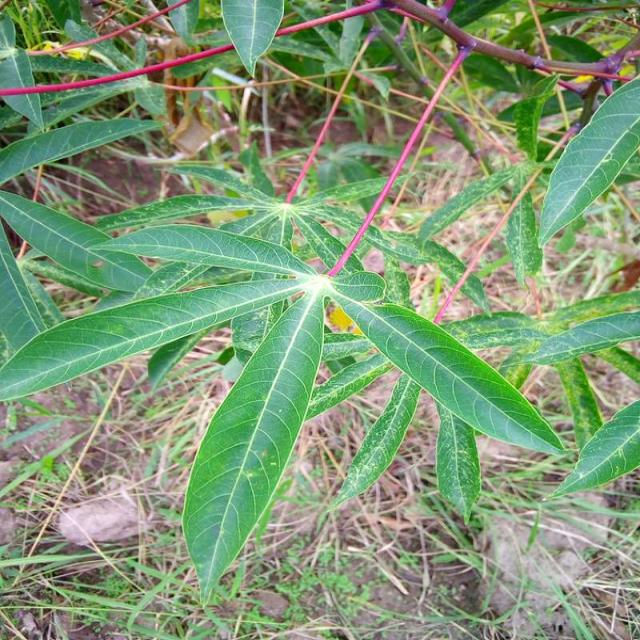cassava leaf: (180, 286, 326, 605), (332, 292, 566, 459), (536, 74, 639, 248)
